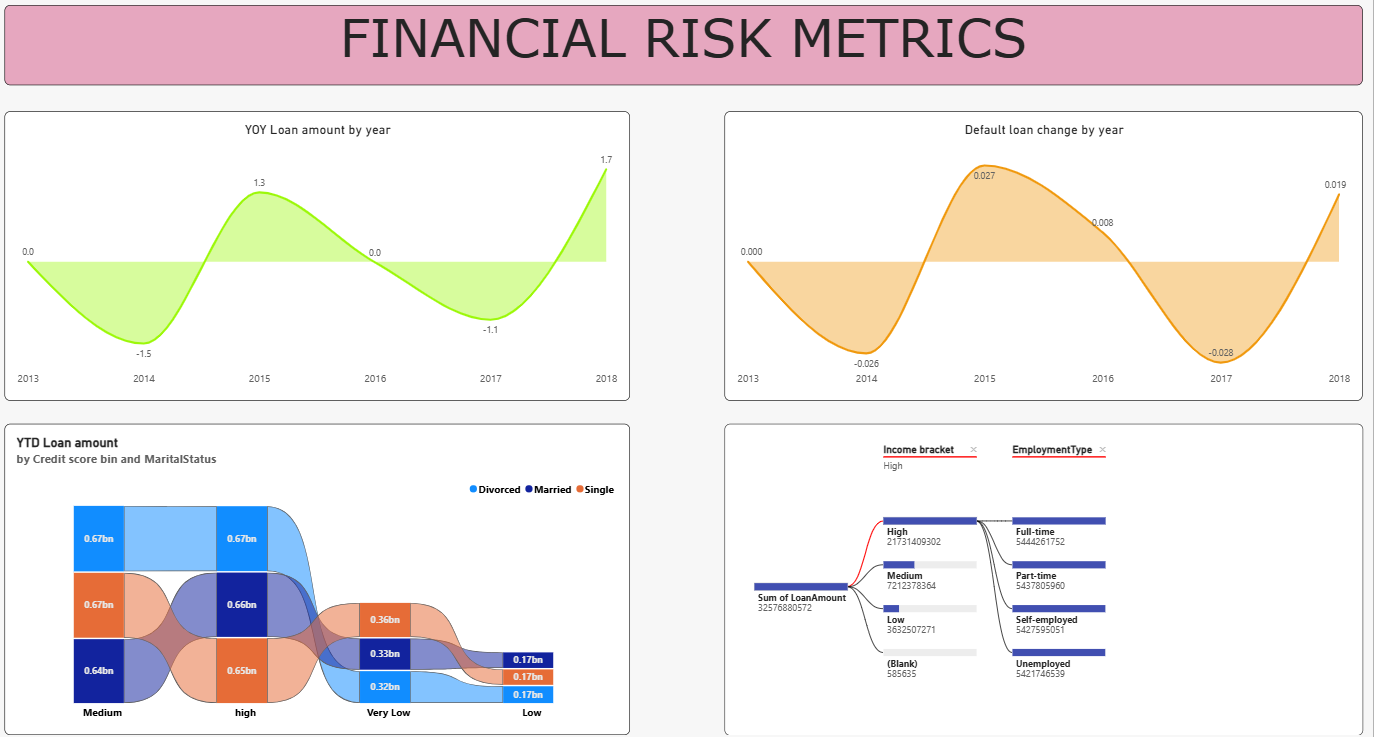

This screenshot's page, from the dashboard's own definition file:
{"tool":"powerbi","page":{"name":"Financial Risk metrices","canvas":[1920,1080],"ordinal":2},"visuals":[{"type":"textbox","box":[10.8,14.4,1895.1,111.8],"z":0},{"type":"lineChart","fields":{"Category":["Loan_default.year"],"Y":["Measures Table 3.YOY Loan amount"]},"box":[10.8,162.3,872.7,403.9],"z":1000},{"type":"lineChart","fields":{"Category":["Loan_default.year"],"Y":["Measures Table 3.Default loan change"]},"box":[1015.2,162.3,890.8,403.9],"z":2000},{"type":"ribbonChart","fields":{"Category":["Loan_default.Credit score bin"],"Series":["Loan_default.MaritalStatus"],"Y":["Measures Table 3.YTD Loan amount"]},"box":[10.8,598.6,872.7,434.6],"z":2001},{"type":"decompositionTreeVisual","fields":{"Analyze":["Sum(Loan_default.LoanAmount)"],"ExplainBy":["Loan_default.Income bracket","Loan_default.EmploymentType"]},"box":[1015,599,891,435],"z":2002}]}

Visuals, with their boxes on the page's 1920x1080 design canvas (x1, y1, x2, y2). These are canvas units, not pixel positions in the 1377x737 screenshot, which may show the page scaled, cropped or inside an application window:
textbox: {"x1": 11, "y1": 14, "x2": 1906, "y2": 126}
lineChart - Loan_default.year x Measures Table 3.YOY Loan amount: {"x1": 11, "y1": 162, "x2": 884, "y2": 566}
lineChart - Loan_default.year x Measures Table 3.Default loan change: {"x1": 1015, "y1": 162, "x2": 1906, "y2": 566}
ribbonChart - Loan_default.Credit score bin x Loan_default.MaritalStatus: {"x1": 11, "y1": 599, "x2": 884, "y2": 1033}
decompositionTreeVisual - Sum(Loan_default.LoanAmount) x Loan_default.Income bracket: {"x1": 1015, "y1": 599, "x2": 1906, "y2": 1034}
